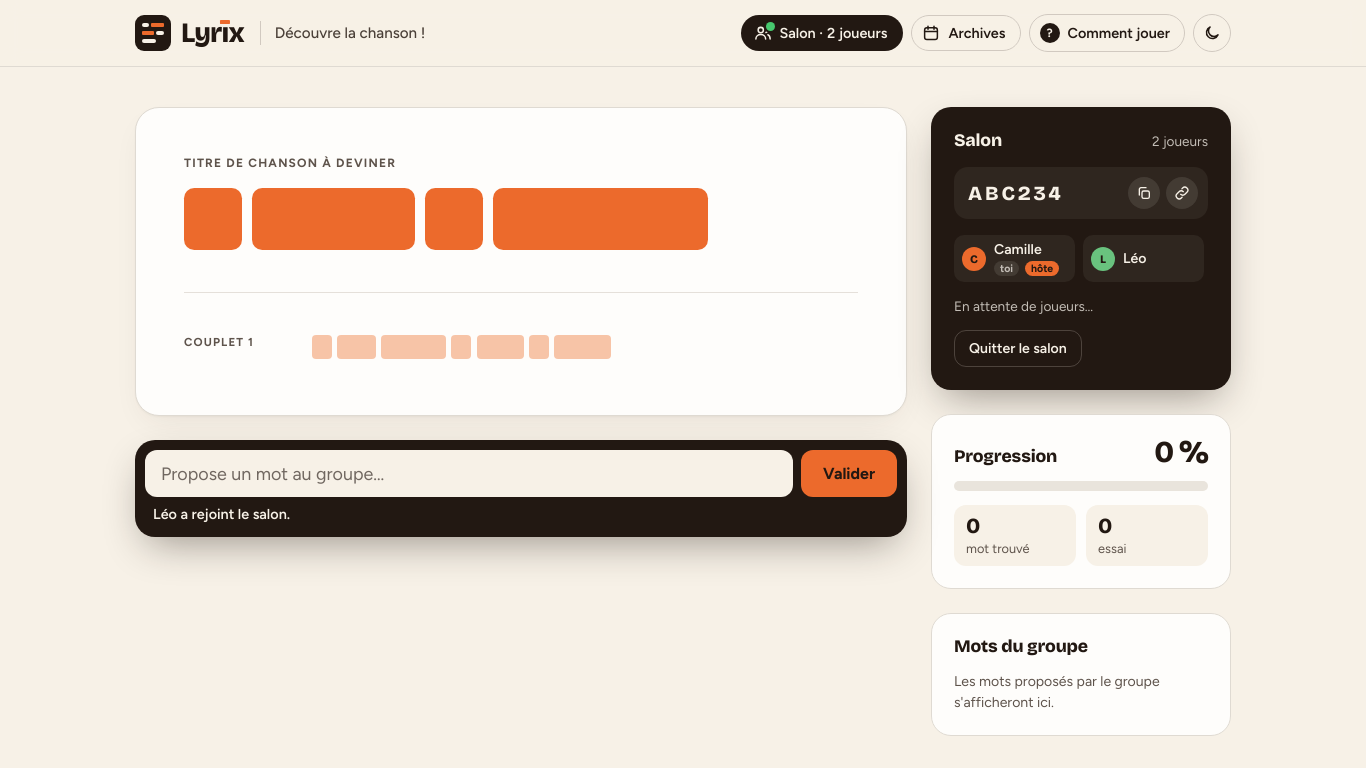
Scenario: a player arriving in the room › gives way to the outcome of the player's next guess, and never shakes the input
This screenshot has width=1366, height=768.
Type "vent" into the field with placeholder "Propose un mot au groupe…" at (469, 474), box [145,450,793,497]
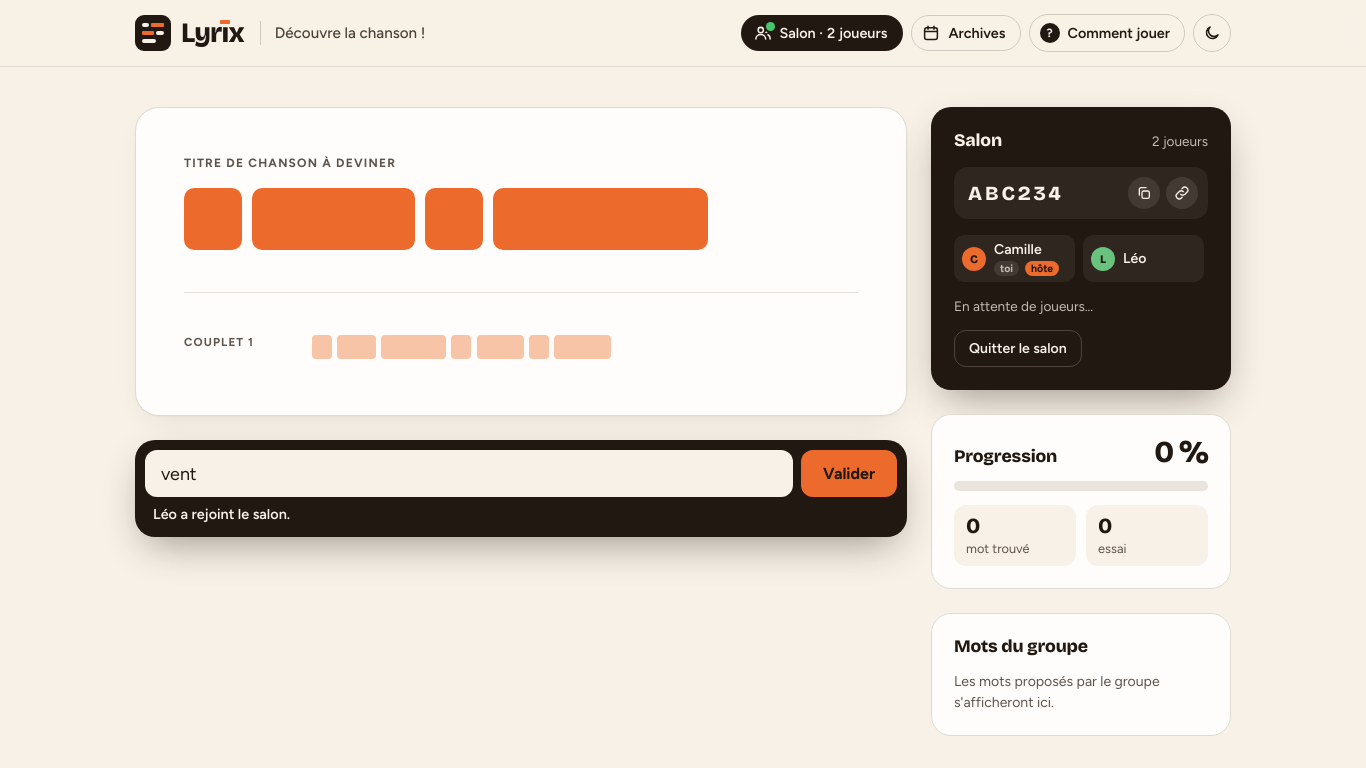
Submit the form from the field with placeholder "Propose un mot au groupe…", box [145,450,793,497]
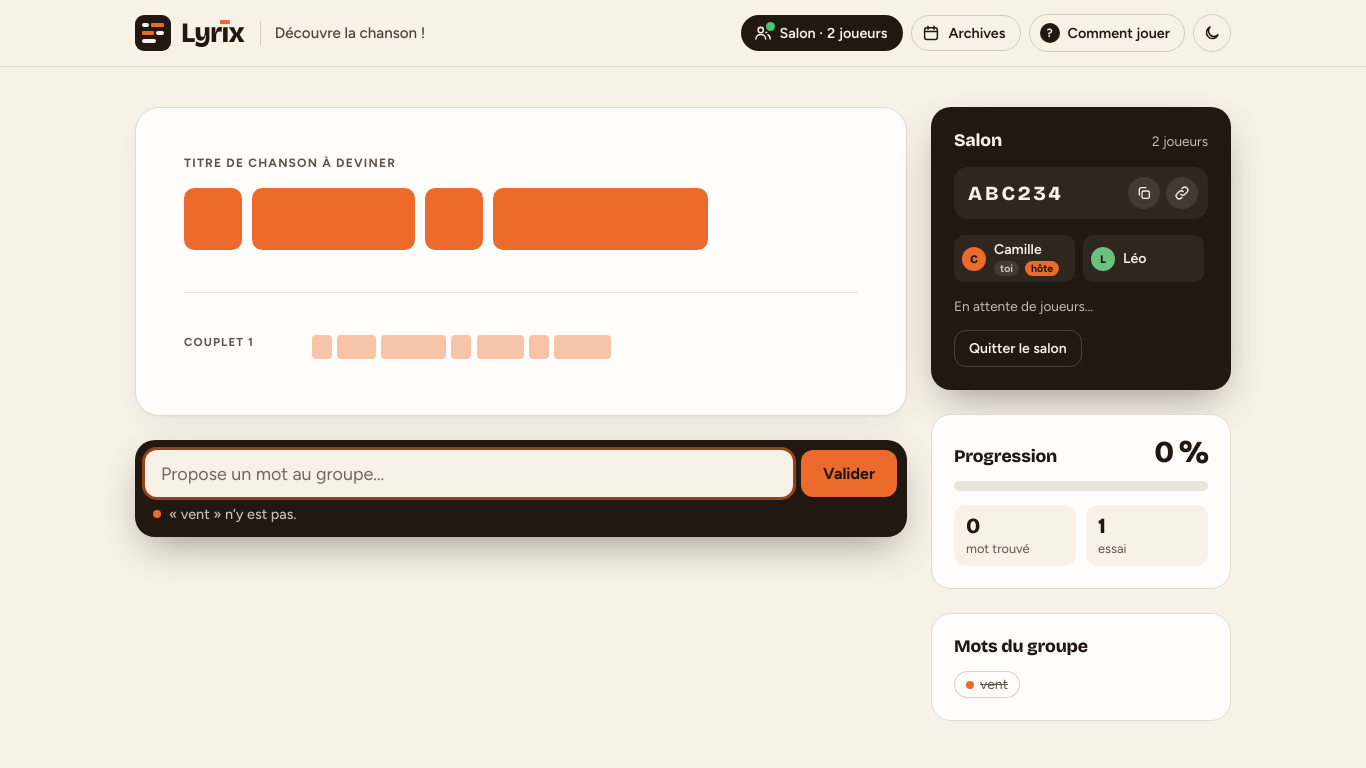
Expected: the message with class "lyrix-feedback" reads "« vent » n’y est pas.", [169,505,296,523]
